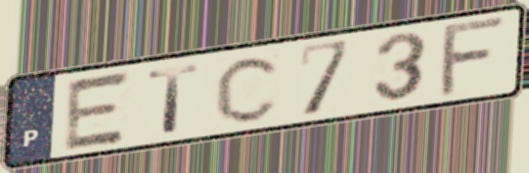3: (368, 30, 430, 105)
7: (298, 36, 352, 118)
C: (212, 52, 286, 126)
E: (59, 67, 135, 154)
F: (435, 13, 512, 101)
T: (146, 61, 204, 136)
